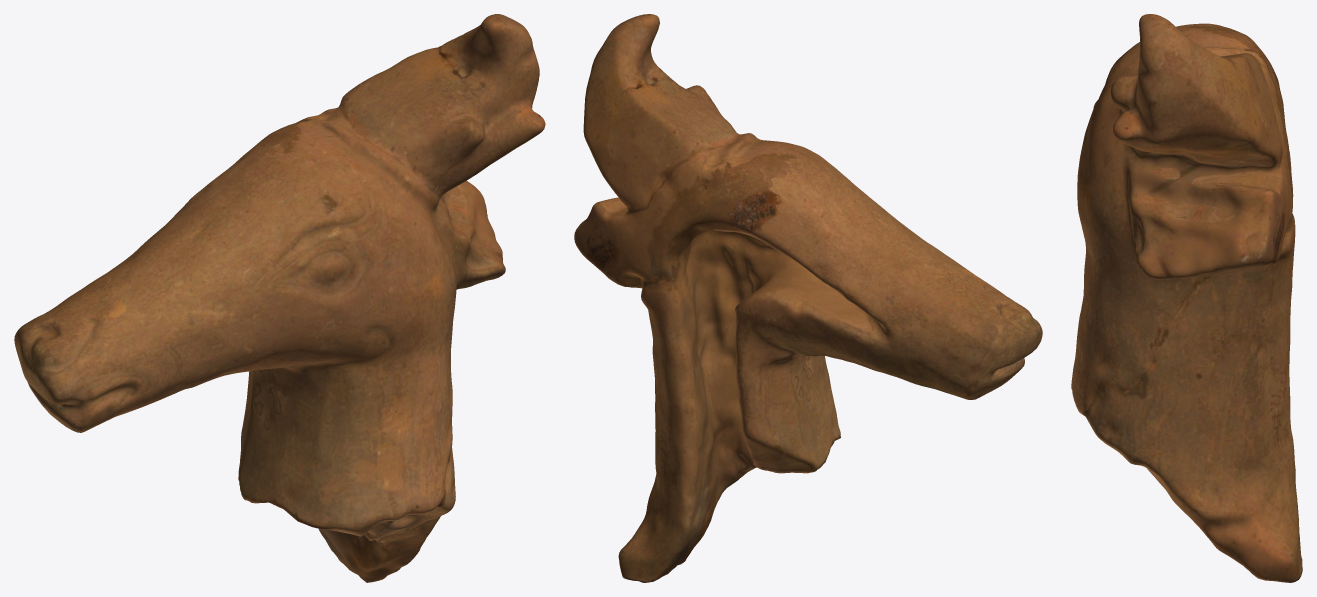
Rendered from MysonMuseum_gazelle_final.glb.
3 views of the same model, side by side, from view 1: azimuth 30°, elevation 25°; view 2: azimuth 150°, elevation 25°; view 3: azimuth 270°, elevation 25° (orthographic). The views are drawn at different scales.
Size of the model in its own units: 0.2966 by 0.3311 by 0.1183.
Materials: 1 (1 with a texture image).
